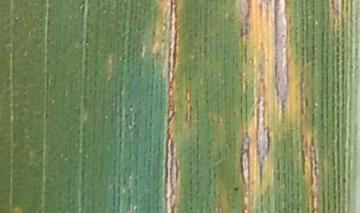tarspot: (232, 185, 240, 194), (342, 177, 349, 184)
